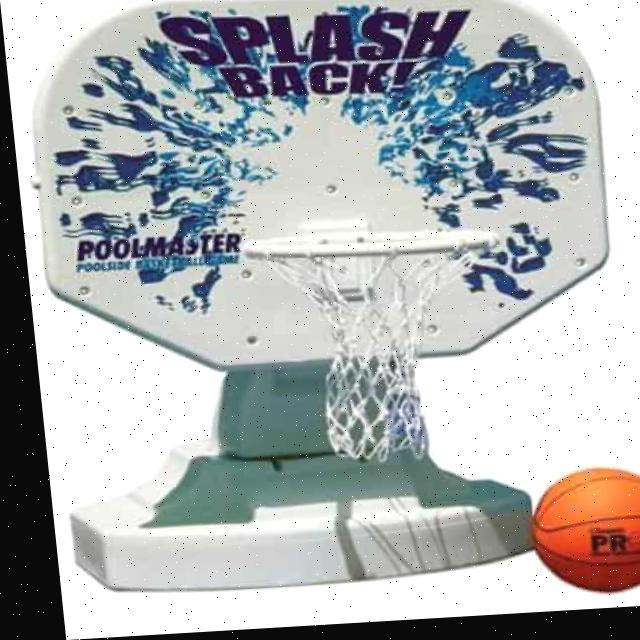basketball: (526, 463, 640, 596)
hoop: (242, 224, 523, 470)
